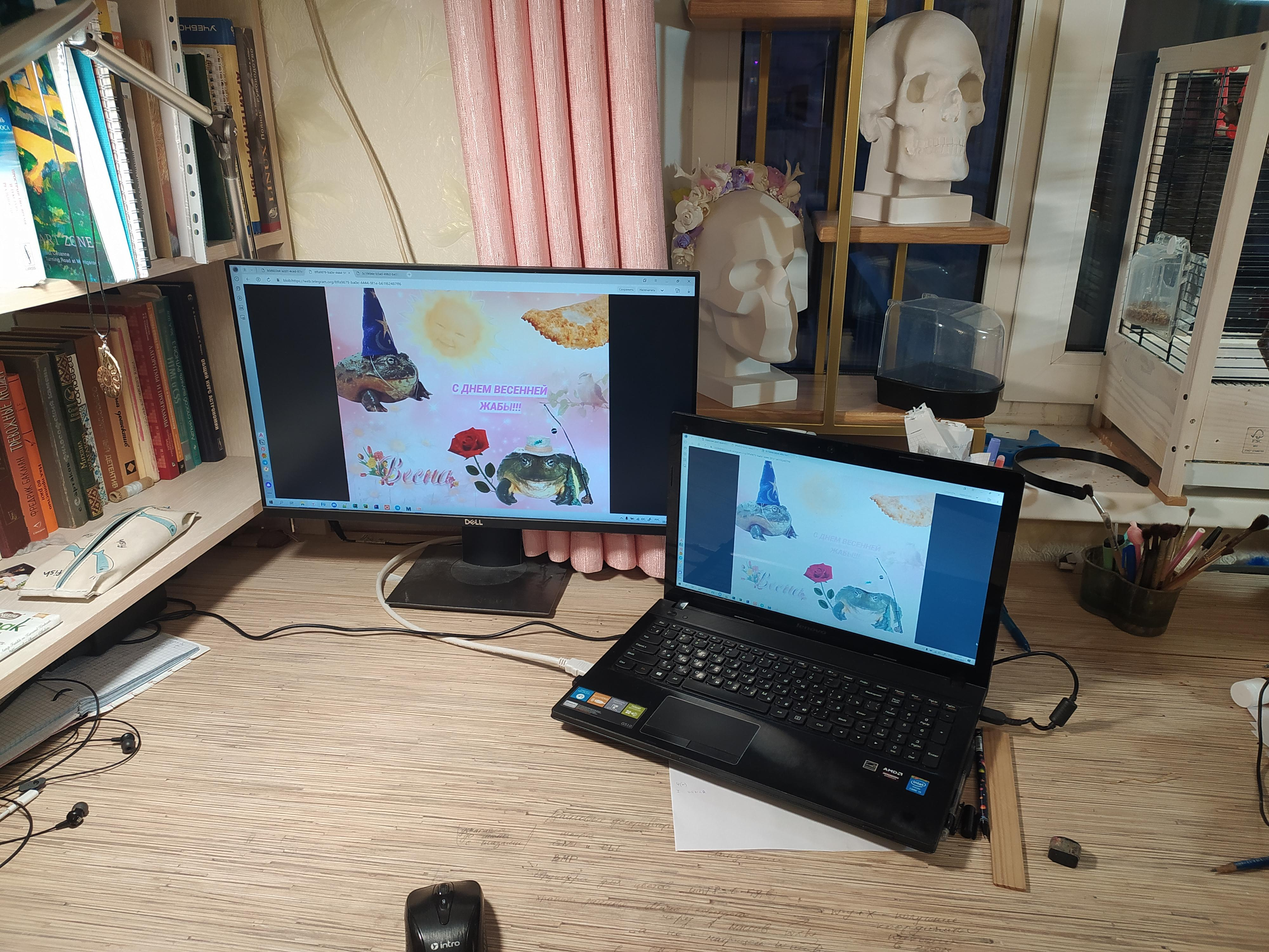monitor: (219, 255, 704, 539), (660, 408, 1029, 689)
